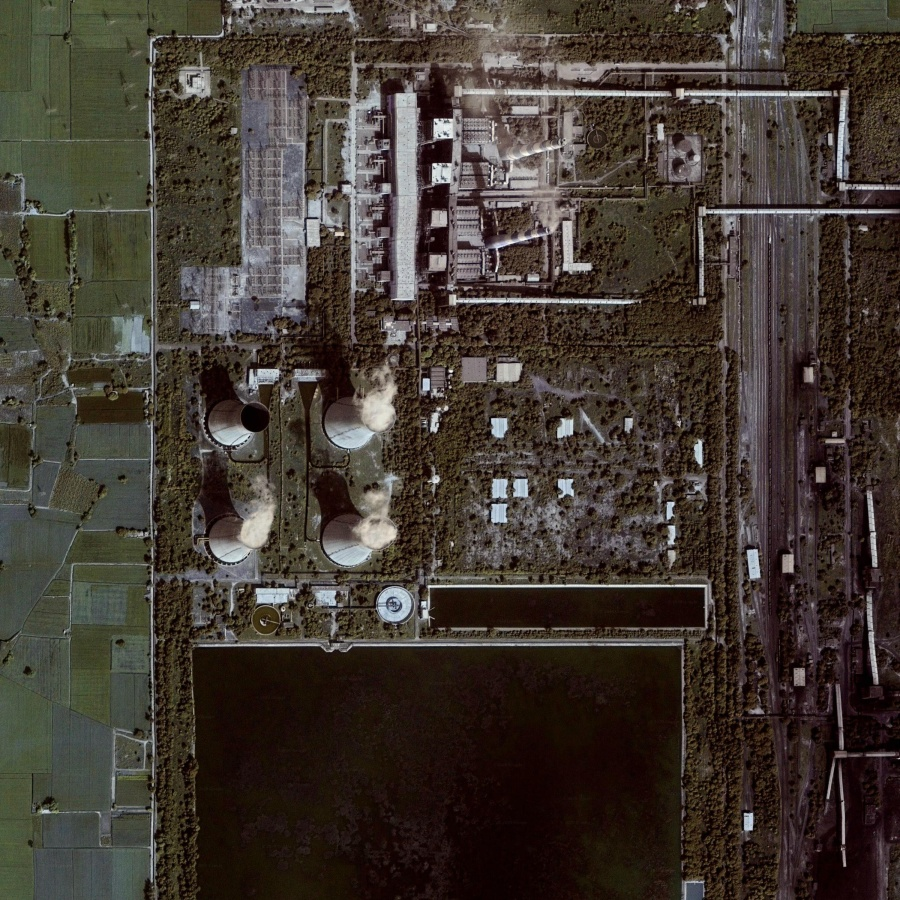PowerPlant: (175, 67, 742, 583)
